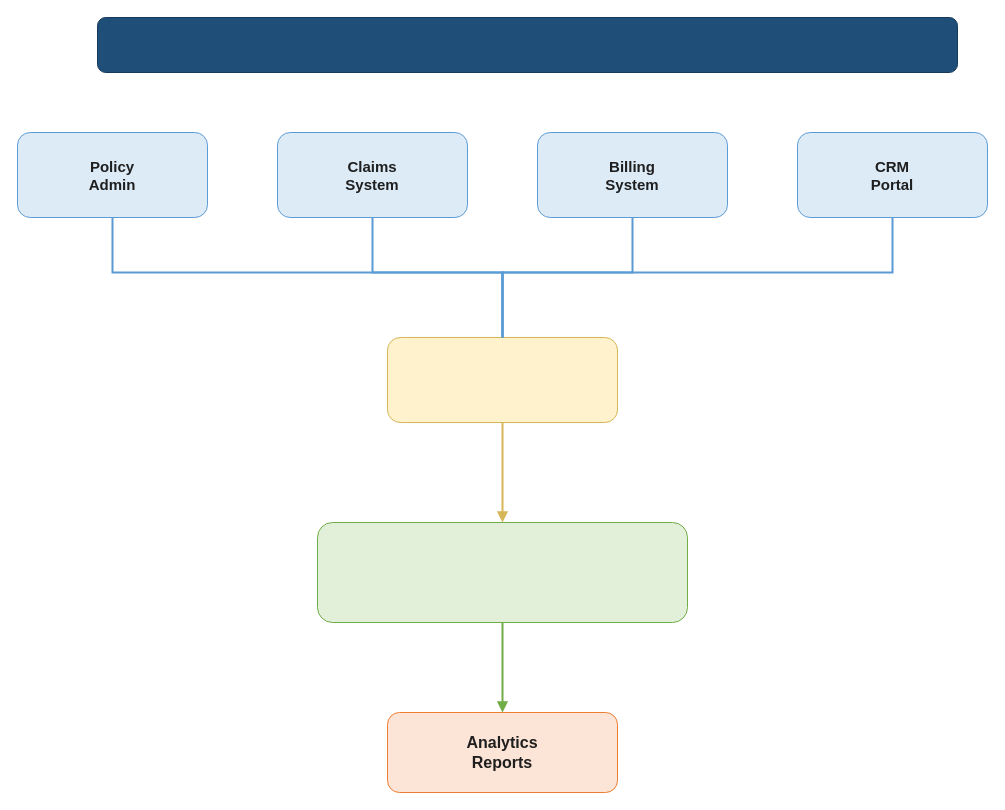
This 1005x810 diagram has some shape labels left out. The centre of each missing label's shape, as x and y in pixels:
ETL Layer: pixel 502 379
NATIONWIDE INSURANCE - ENTERPRISE DATA WAREHOUSE: pixel 527 44
TERADATA EDW (100+ TB): pixel 502 572
